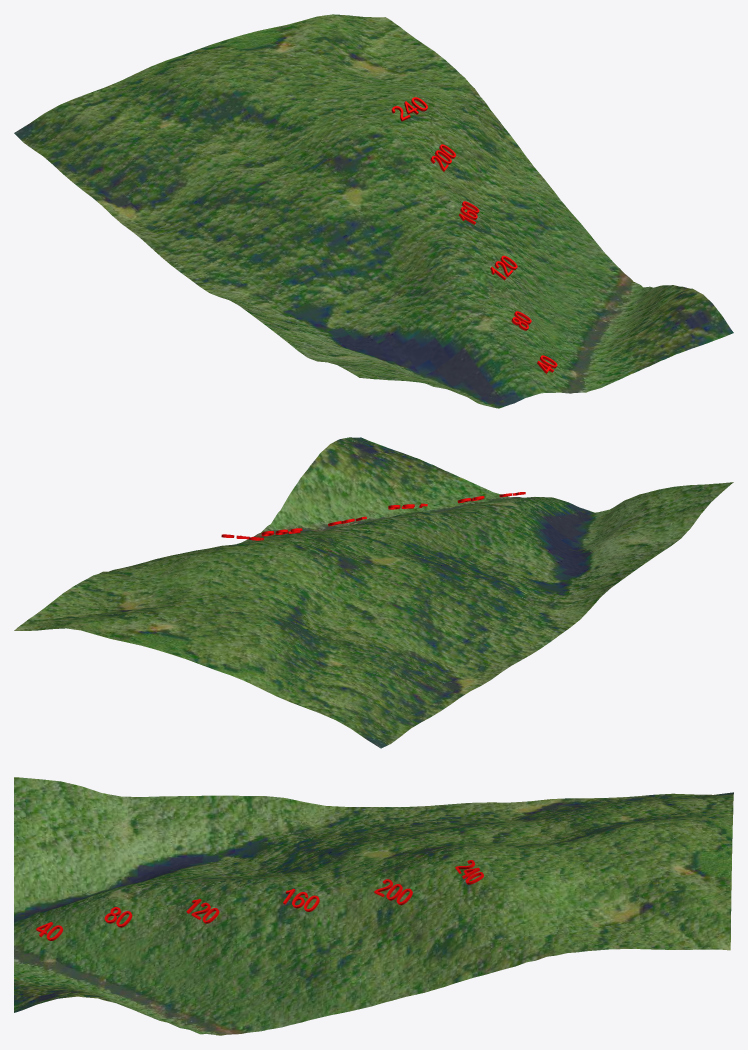
File: SaoJoseAusentes1a.gltf
The picture shows the model from 3 angles, top to bottom: view 1: azimuth 30°, elevation 25°; view 2: azimuth 150°, elevation 25°; view 3: azimuth 270°, elevation 25°; orthographic projection. The views are drawn at different scales.
Visible parts, largest first — view 1: root; view 2: root; view 3: root.
Part boxes in pixels (left/top/right/bottom): root: left=14, top=14, right=733, bottom=408; root: left=14, top=437, right=733, bottom=748; root: left=14, top=777, right=733, bottom=1035.
Bounding box in the file's own units: 917 × 271 × 1485.
2 materials, 1 textured.
